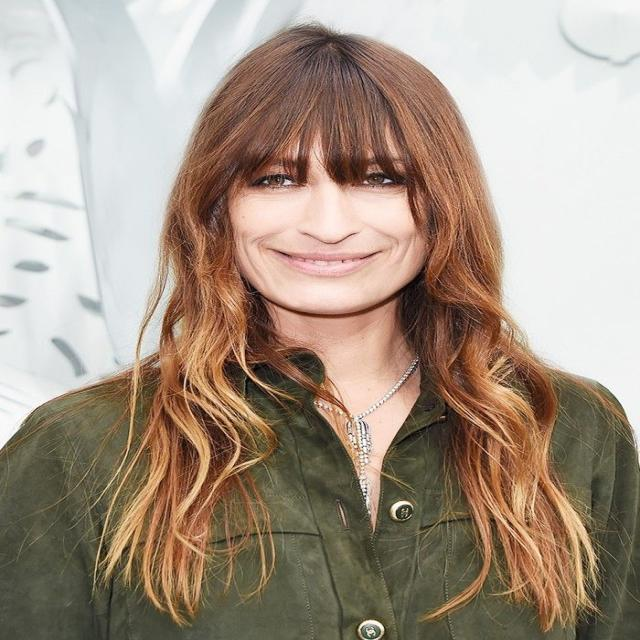mobile_phonerotation: (2, 20, 637, 638)
